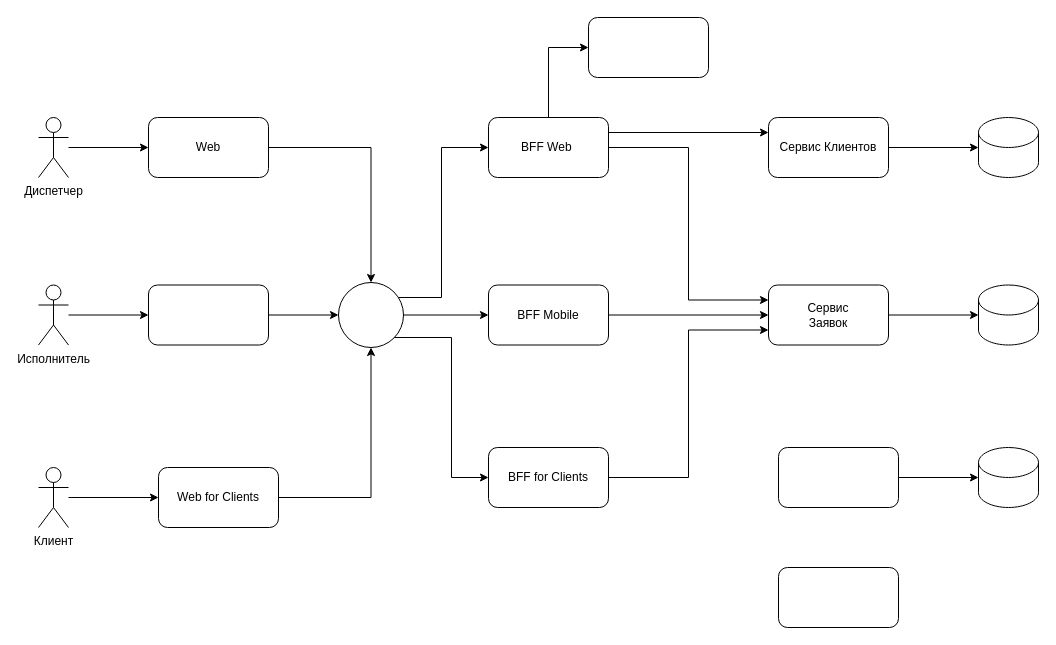
Some shapes in this 1056 by 645 pixel diagram are drawn without their labels. Here are the shapes that lost their labels. From the top down, the box of each, then its label:
(588, 16, 708, 78): Почтовый провайдер
(148, 284, 268, 345): Web mobile
(338, 282, 404, 348): Api gateway
(778, 446, 898, 508): Сервис Пользователей
(778, 566, 898, 628): Корпоративный провайдер идентификации
